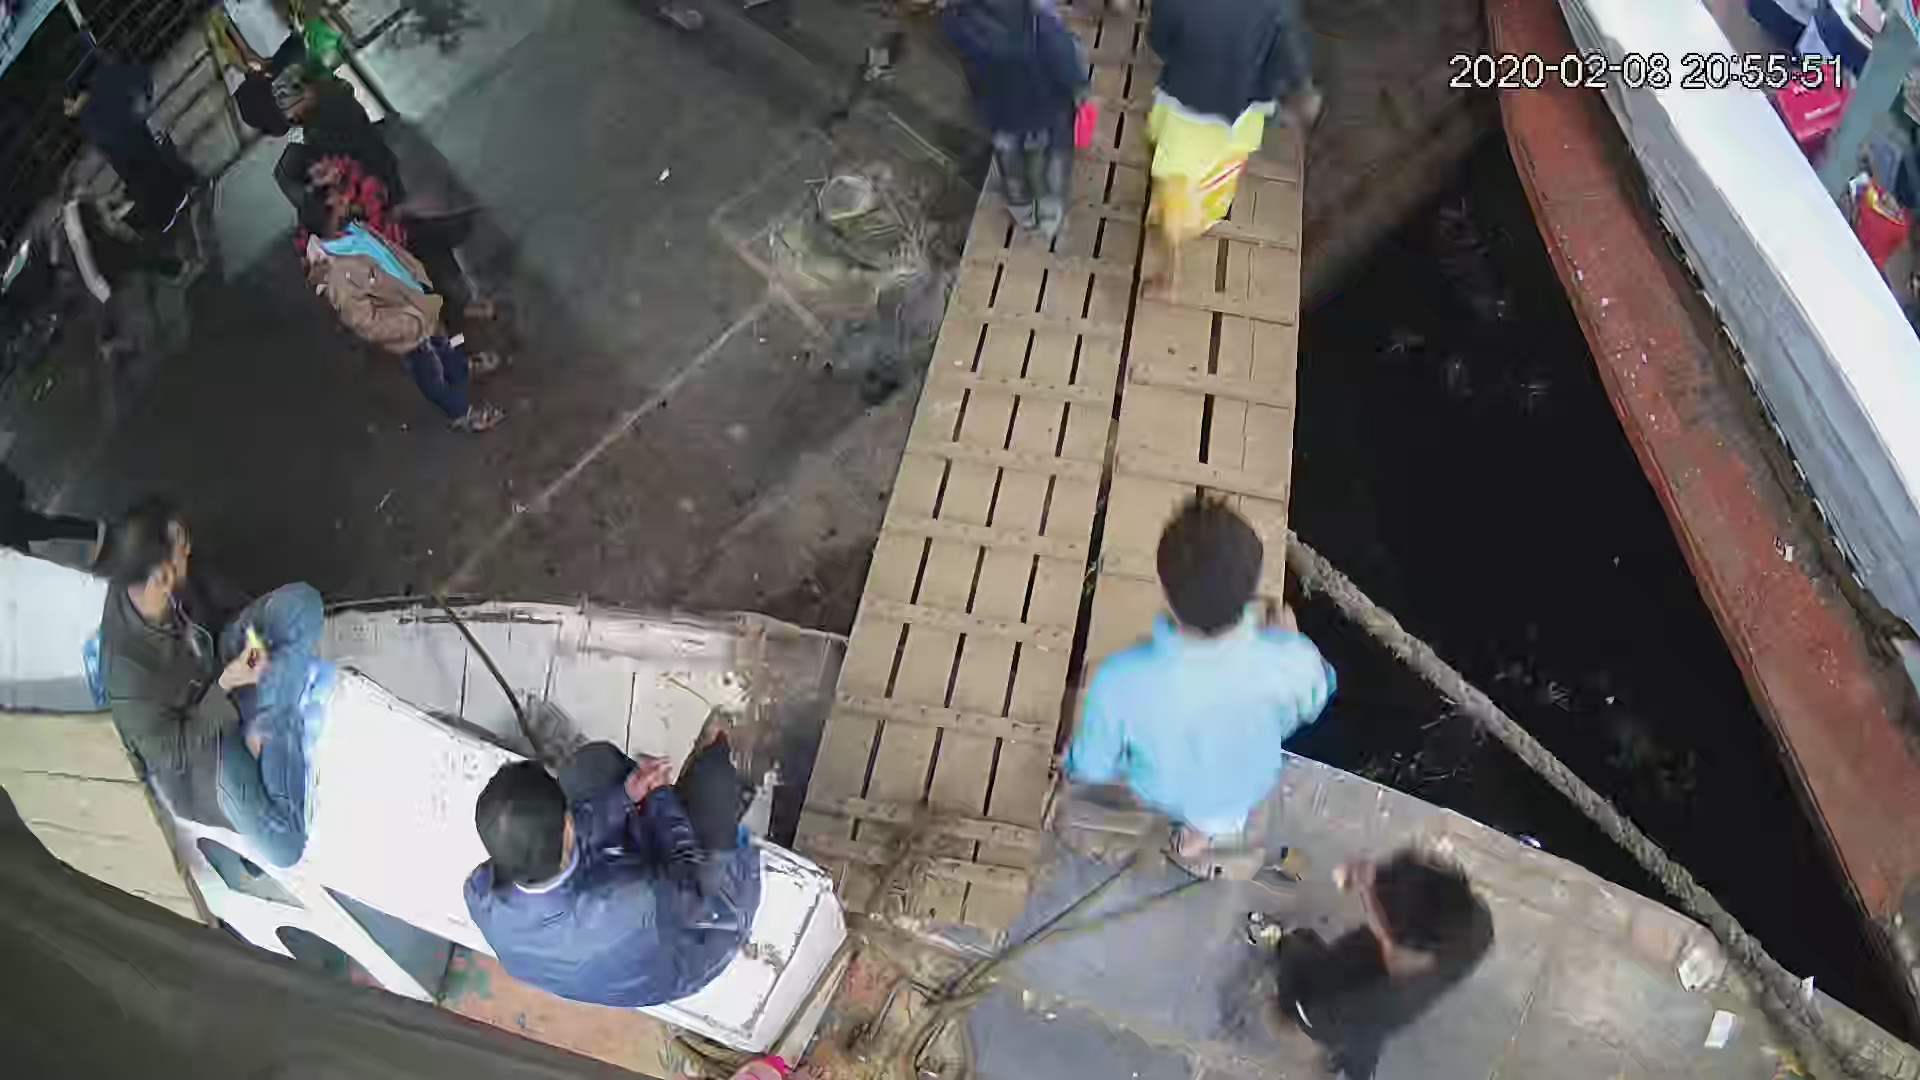person: (1058, 484, 1340, 861), (454, 707, 765, 1012), (91, 492, 330, 871), (1120, 1, 1323, 313), (1233, 847, 1498, 1071), (291, 184, 507, 437), (925, 1, 1102, 247), (51, 75, 203, 243), (258, 57, 400, 186)
